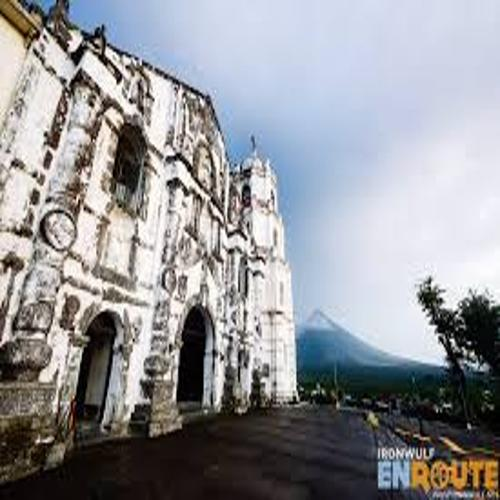Daraga Church: (28, 3, 300, 434)
